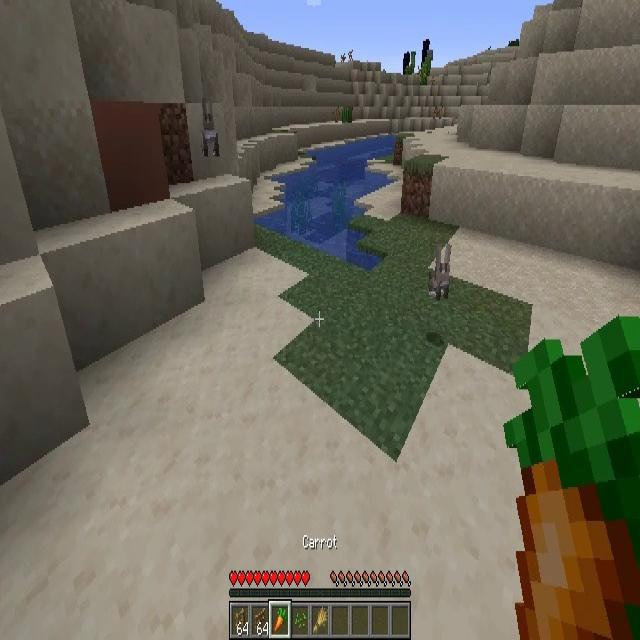rabbit: (202, 96, 219, 157), (430, 248, 450, 299)
